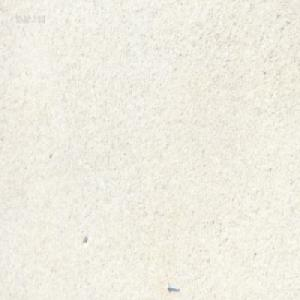Nail: (166, 282, 179, 290)
